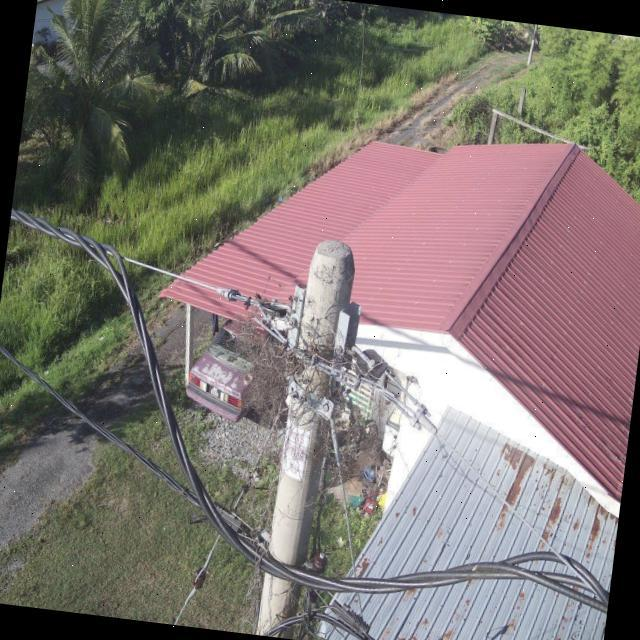critical vegetation: (192, 274, 392, 564)
